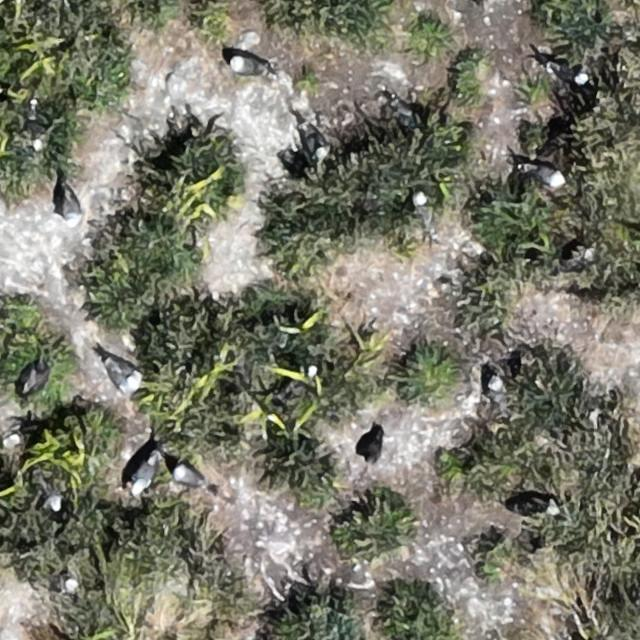umineko: (100, 353, 144, 394), (414, 191, 439, 241), (485, 375, 514, 415), (520, 494, 561, 516), (529, 164, 565, 187), (42, 476, 65, 511), (550, 63, 588, 84), (132, 458, 155, 492), (61, 190, 80, 224), (174, 467, 204, 488), (306, 127, 326, 158), (229, 56, 261, 74)
